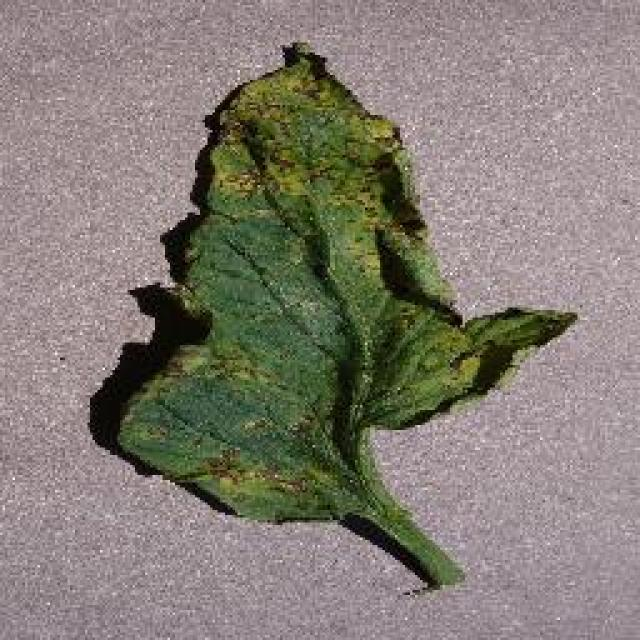Tomato___Septoria_leaf_spot: (120, 42, 575, 582)
